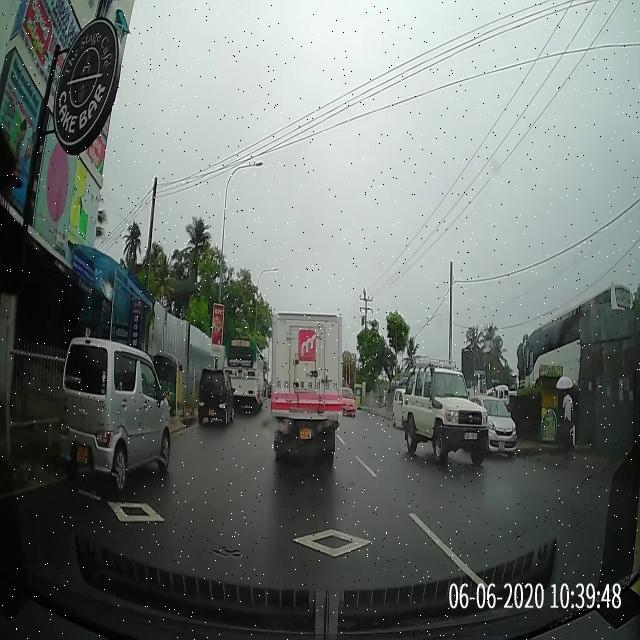diamond: (243, 525, 461, 561)
